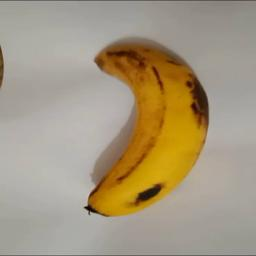Banana Semifresh: (89, 44, 210, 215)
